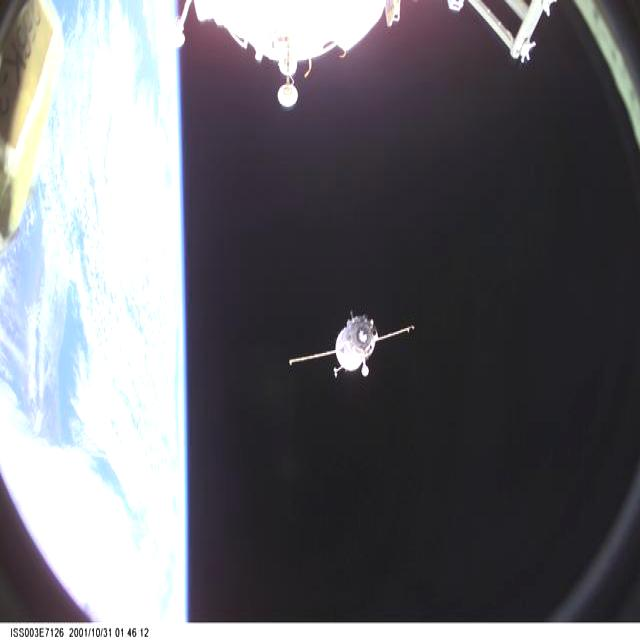medium_debris: (289, 313, 415, 376)
